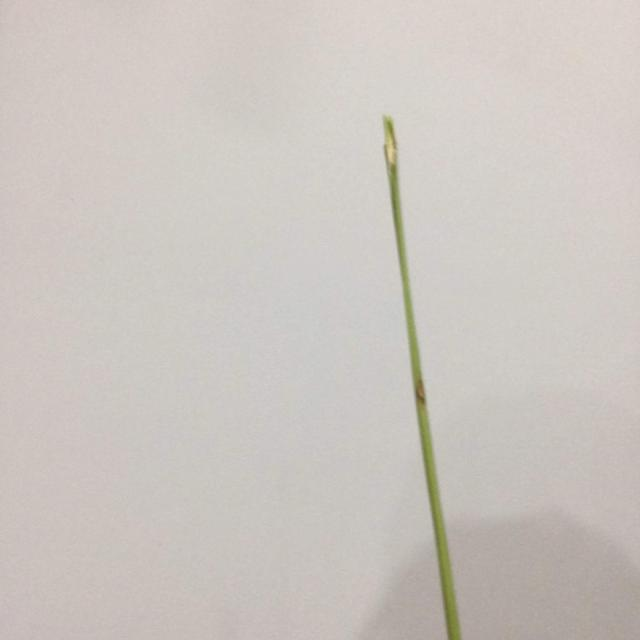Blast: (418, 382, 430, 406)
